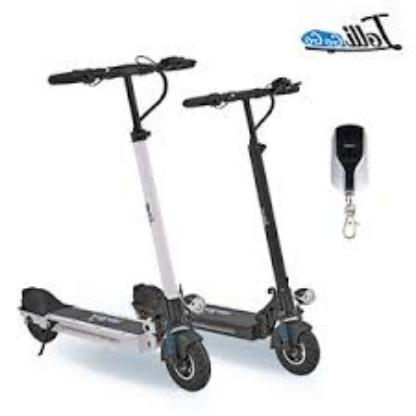bike: (10, 59, 322, 385), (18, 283, 213, 393)
